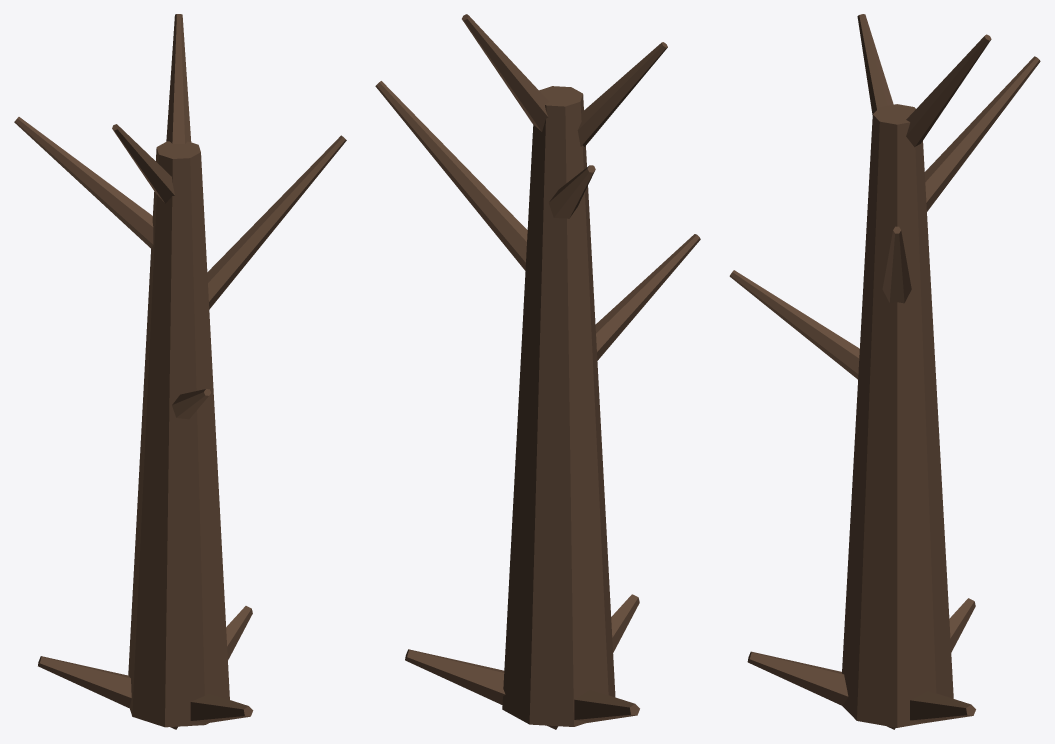
Rendered from SM_DeadTree_01.fbx.
The picture shows the model from 3 angles, left to right: view 1: azimuth 30°, elevation 25°; view 2: azimuth 150°, elevation 25°; view 3: azimuth 270°, elevation 25°; orthographic projection. The views are drawn at different scales.
Parts seen in each view (by area): view 1: SM_DeadTree_01; view 2: SM_DeadTree_01; view 3: SM_DeadTree_01.
Part boxes in pixels (x1=…): SM_DeadTree_01: x1=14, y1=14, x2=346, y2=729; SM_DeadTree_01: x1=375, y1=14, x2=700, y2=729; SM_DeadTree_01: x1=729, y1=14, x2=1040, y2=729.
Size of the model in its own units: 1.65 by 3.87 by 1.53.
